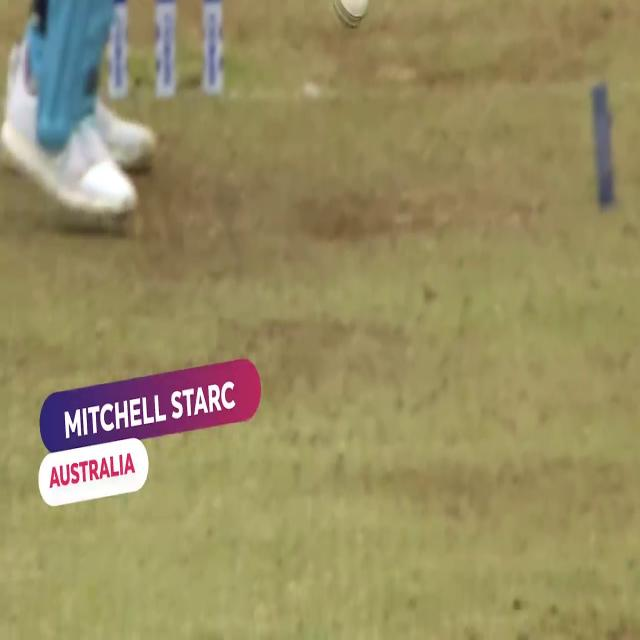ball: (327, 1, 373, 32)
